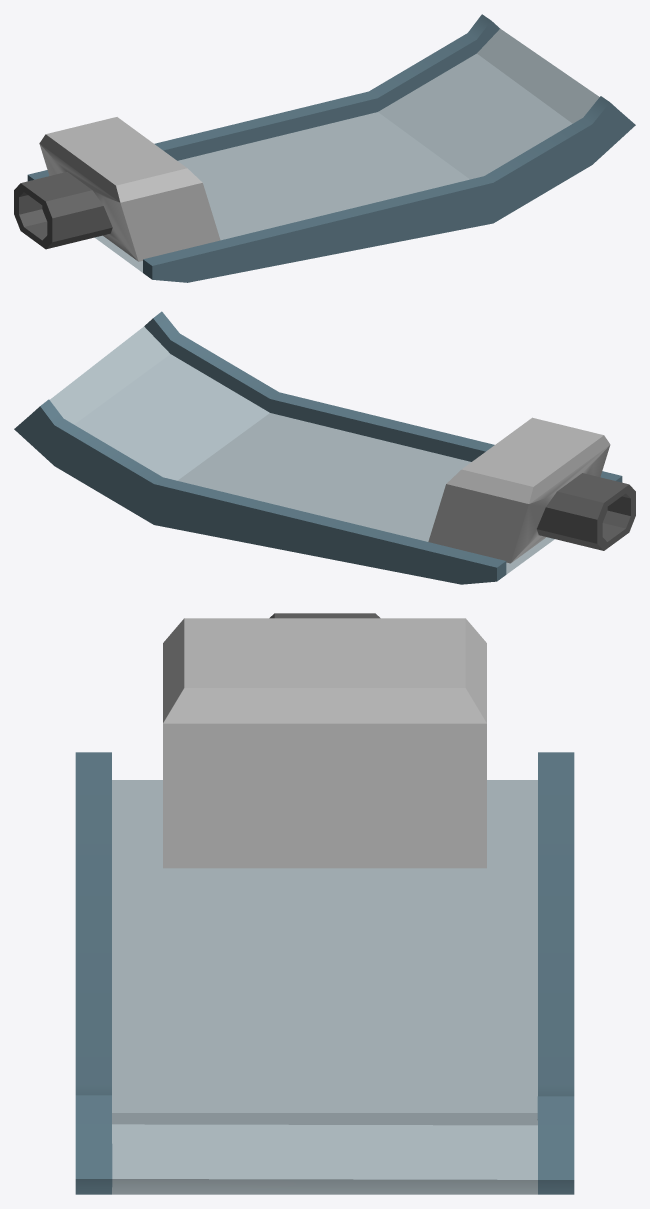
File: hover board.fbx
3 views of the same model, one above another, from view 1: azimuth 30°, elevation 25°; view 2: azimuth 150°, elevation 25°; view 3: azimuth 270°, elevation 25° (orthographic). The views are drawn at different scales.
Visible parts, largest first — view 1: hover_board; view 2: hover_board; view 3: hover_board.
Part boxes in pixels (left/top/right/bottom): hover_board: left=14, top=14, right=635, bottom=282; hover_board: left=14, top=311, right=635, bottom=584; hover_board: left=75, top=613, right=574, bottom=1194.
Size of the model in its own units: 5.98 by 1.09 by 2.39.
